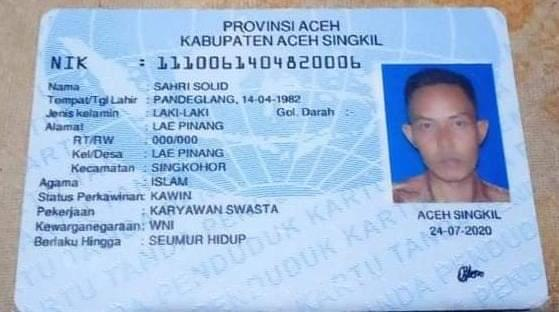ID-card: (15, 13, 553, 307)
